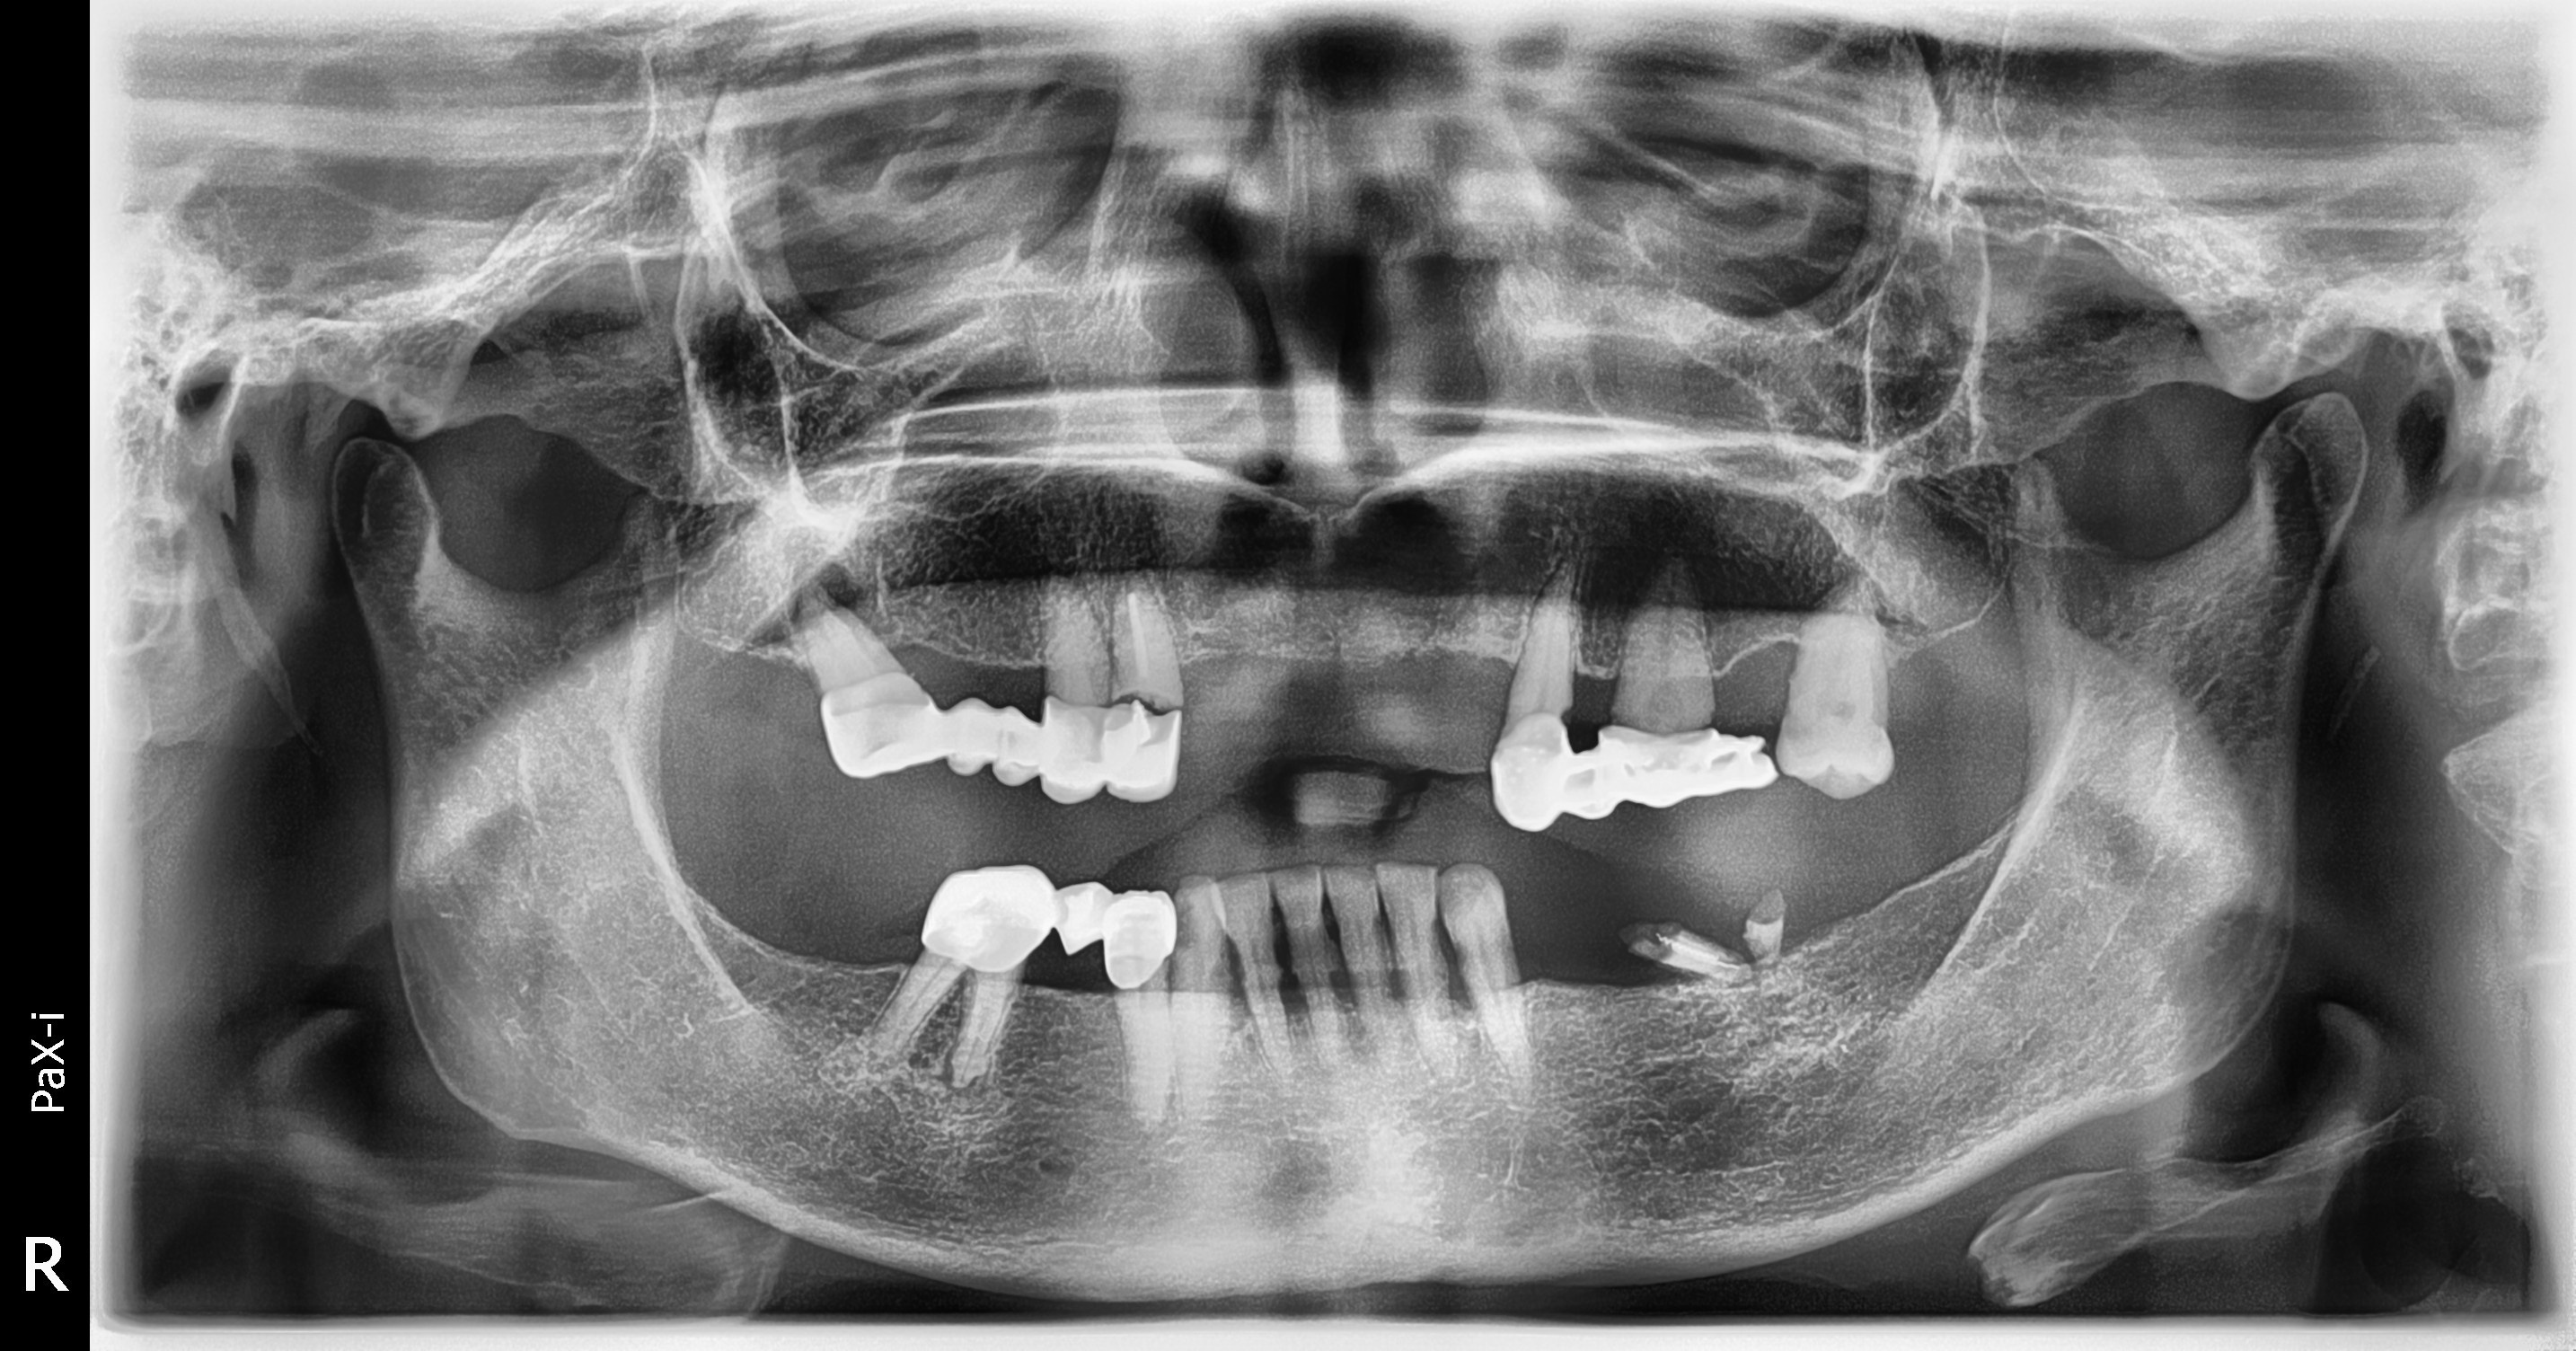API: (785, 549, 860, 641)
CAR: (1109, 692, 1181, 714)
END: (1126, 593, 1148, 678)
PRR: (1492, 714, 1777, 830)
ROT: (1743, 889, 1785, 964)
